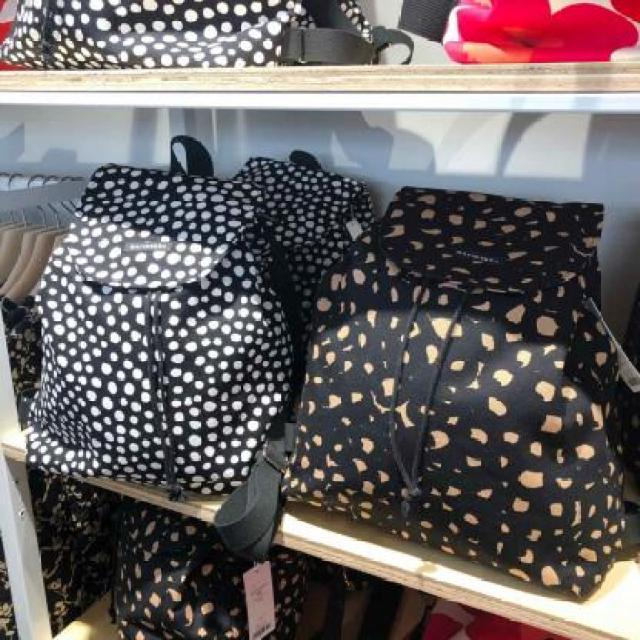Bag: (255, 136, 640, 613), (18, 110, 310, 528)
